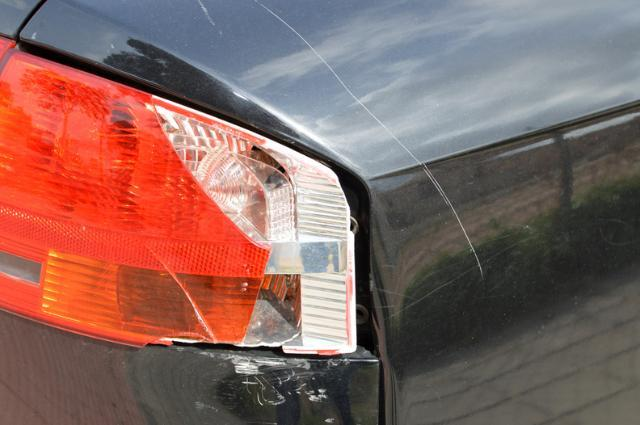Bumper: (199, 345, 382, 425)
Fender: (25, 0, 519, 323)
Light: (0, 48, 363, 355)
